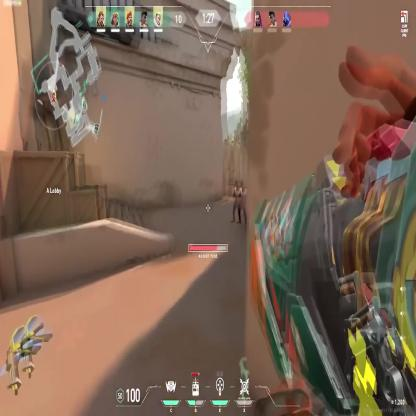enemy: (234, 179, 244, 224)
enemy_head: (235, 180, 239, 187)
